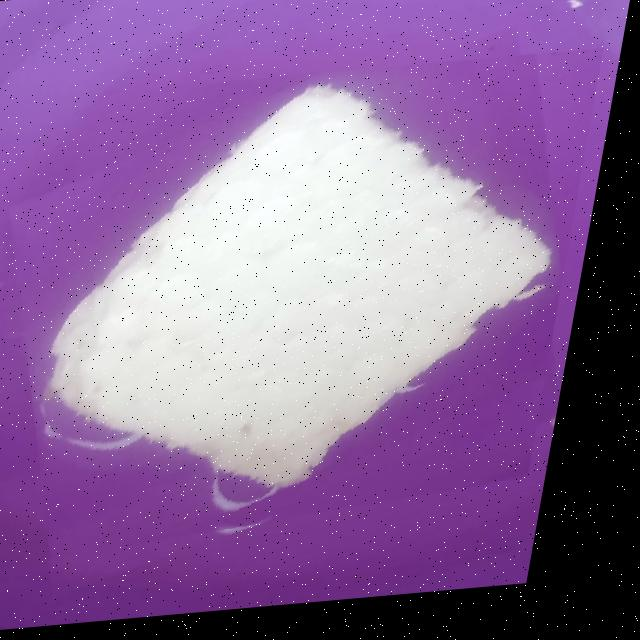thermocoal: (0, 59, 608, 575)
